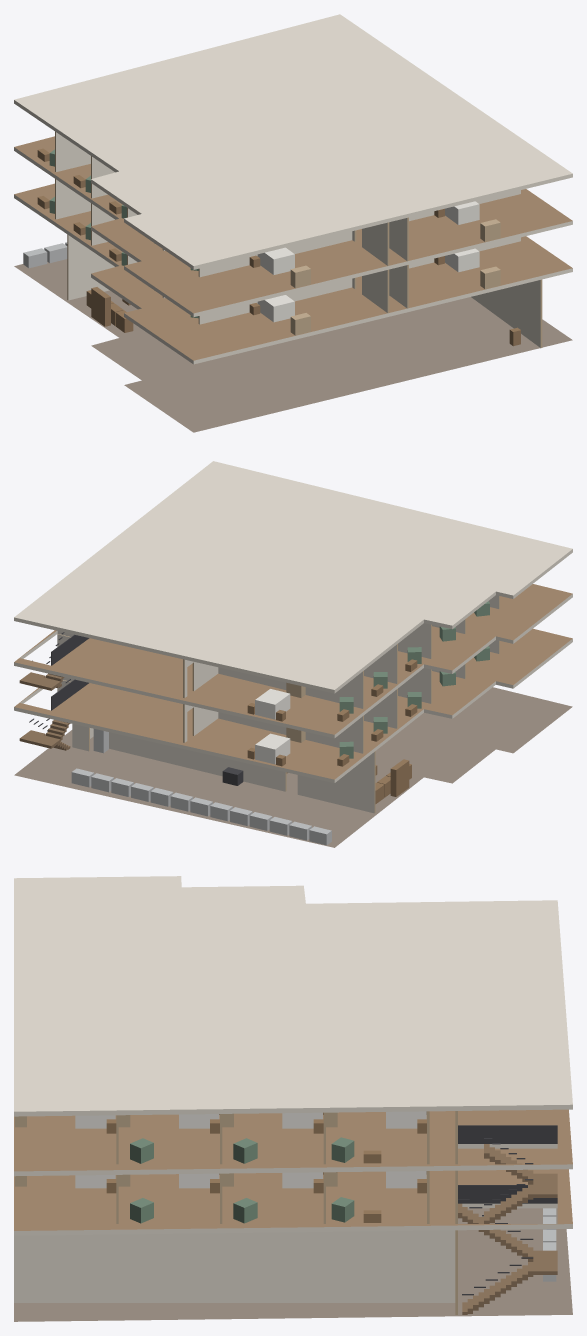
Rendered from interior.glb.
The picture shows the model from 3 angles, top to bottom: view 1: azimuth 30°, elevation 25°; view 2: azimuth 150°, elevation 25°; view 3: azimuth 270°, elevation 25°; orthographic projection. The views are drawn at different scales.
Visible parts, largest first — view 1: slabs, partitions, coarse-s2, coarse-s1, coarse-s0; view 2: slabs, partitions, coarse-s0, coarse-s1, coarse-s2, stair; view 3: slabs, partitions, stair, coarse-s1, coarse-s2, coarse-s0.
Part boxes in pixels (box(x1,y1,x2,y2)): slabs: box(14, 14, 572, 432); partitions: box(55, 131, 542, 348); coarse-s2: box(37, 148, 500, 288); coarse-s1: box(37, 196, 500, 335); coarse-s0: box(23, 242, 520, 346); slabs: box(14, 461, 572, 847); partitions: box(57, 595, 499, 813); coarse-s0: box(71, 729, 411, 845); coarse-s1: box(247, 646, 489, 766); coarse-s2: box(247, 601, 489, 721); stair: box(19, 632, 89, 750); slabs: box(14, 876, 572, 1321); partitions: box(14, 1111, 457, 1314); stair: box(458, 1125, 557, 1314); coarse-s1: box(15, 1171, 426, 1223); coarse-s2: box(15, 1111, 426, 1163); coarse-s0: box(543, 1208, 556, 1281).
Bounding box in the file's own units: 27.49 × 11.45 × 27.56.
